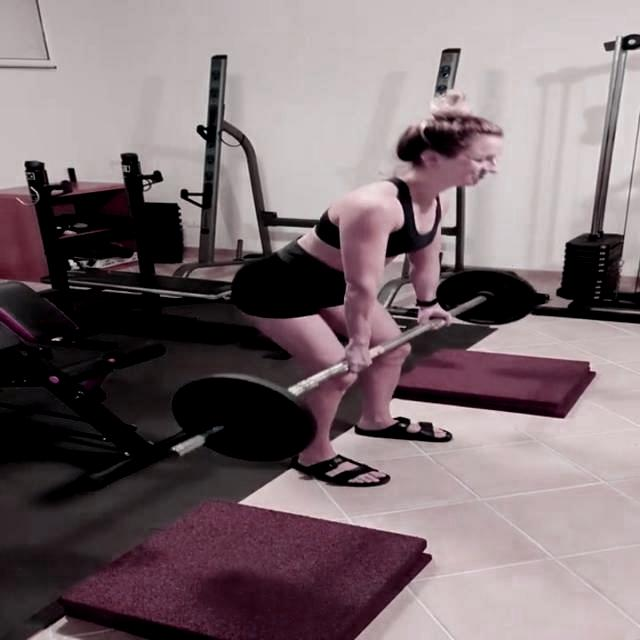barbell: (162, 372, 320, 469)
